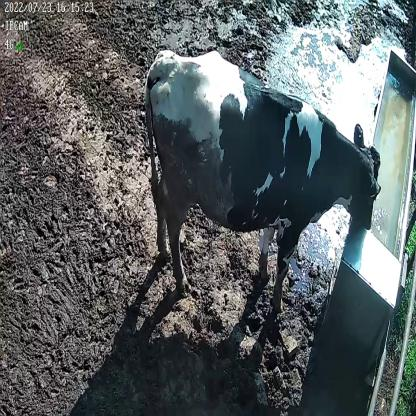cow: (145, 46, 382, 310)
